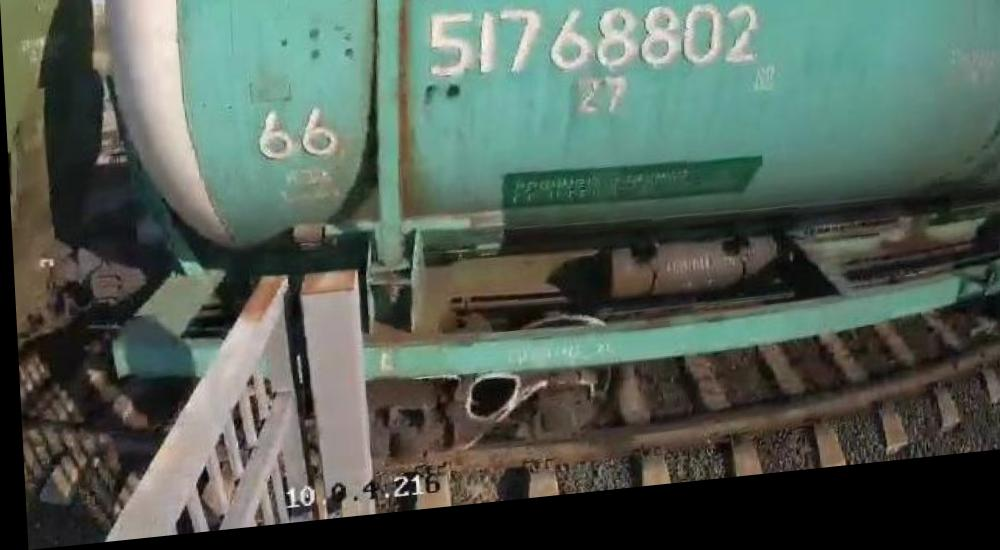Wagon-number: (421, 0, 760, 110)
